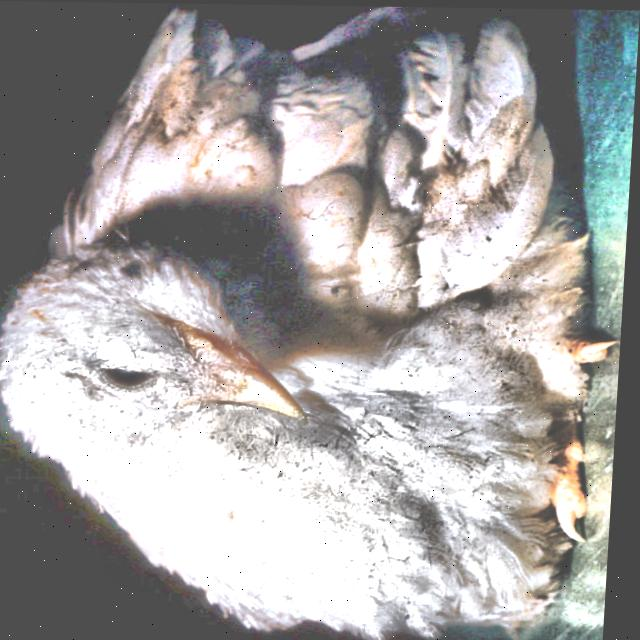Newcastle: (0, 25, 628, 634)
